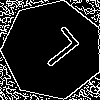L: (27, 25, 81, 76)
